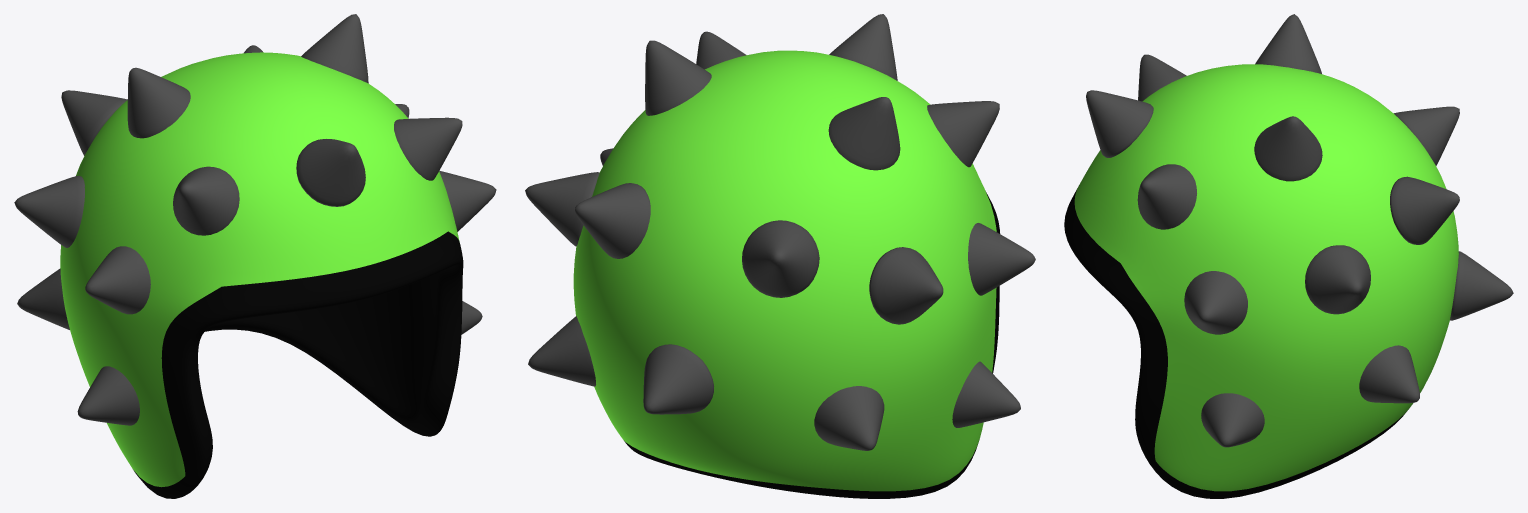
The model's file is helmet_head_scaled.glb.
3 views of the same model, side by side, from view 1: azimuth 30°, elevation 25°; view 2: azimuth 150°, elevation 25°; view 3: azimuth 270°, elevation 25° (orthographic). The views are drawn at different scales.
Visible parts, largest first — view 1: helmet head hp.001; view 2: helmet head hp.001; view 3: helmet head hp.001.
Boxes of the visible parts, <box> form: helmet head hp.001: <box>14,14,496,498</box>; helmet head hp.001: <box>525,14,1035,498</box>; helmet head hp.001: <box>1064,14,1513,498</box>.
Bounding box in the file's own units: 645 × 586 × 641.
